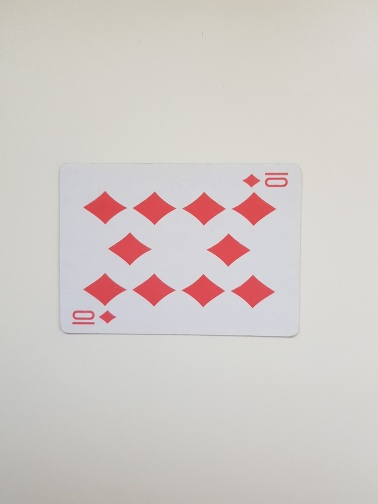ten: (57, 159, 305, 339)
